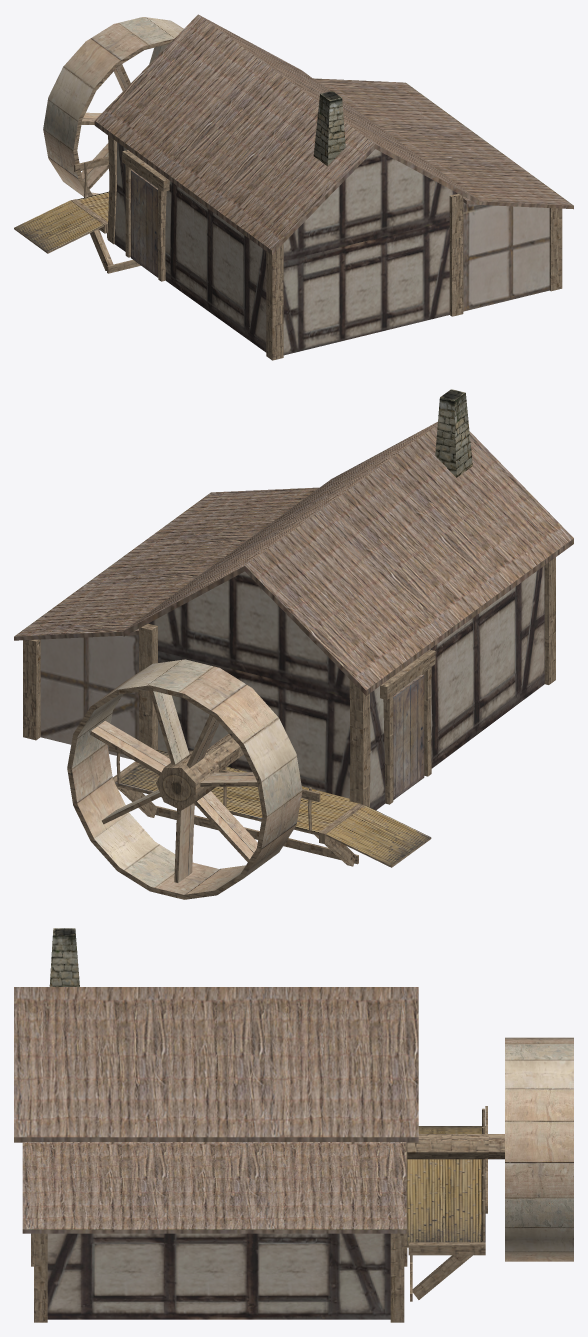
The model's file is melnica.FBX.
The picture shows the model from 3 angles, top to bottom: view 1: azimuth 30°, elevation 25°; view 2: azimuth 150°, elevation 25°; view 3: azimuth 270°, elevation 25°; orthographic projection. The views are drawn at different scales.
Visible parts, largest first — view 1: Object003, Object004, Object002; view 2: Object004, Object003, Object002; view 3: Object004, Object003, Object002.
Boxes of the visible parts, bbox=[...] form: Object003: bbox=[14, 135, 562, 360]; Object004: bbox=[94, 14, 573, 277]; Object002: bbox=[43, 17, 183, 196]; Object004: bbox=[14, 389, 573, 799]; Object003: bbox=[23, 557, 555, 867]; Object002: bbox=[67, 659, 302, 899]; Object004: bbox=[14, 928, 418, 1233]; Object003: bbox=[31, 1106, 487, 1322]; Object002: bbox=[407, 1037, 573, 1261].
Bounding box in the file's own units: 77.51 × 92.24 × 56.36.
